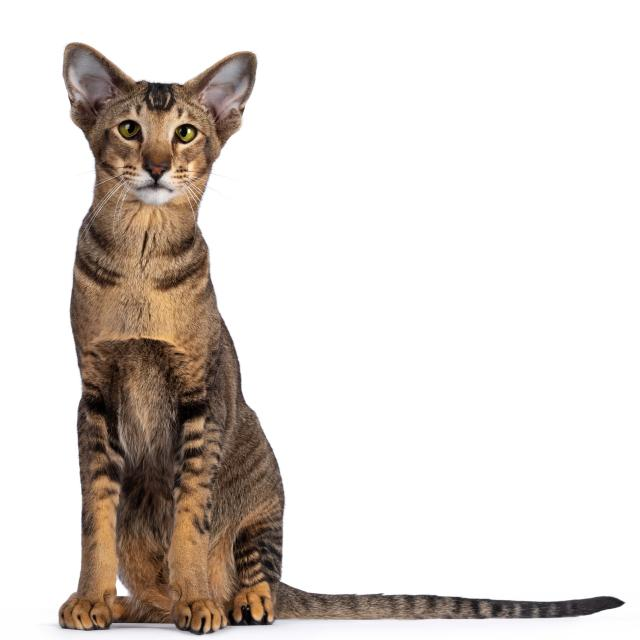Oriental: (55, 37, 627, 637)
